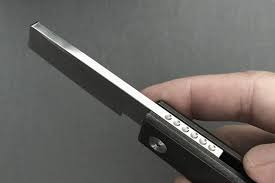knife: (18, 12, 248, 183)
